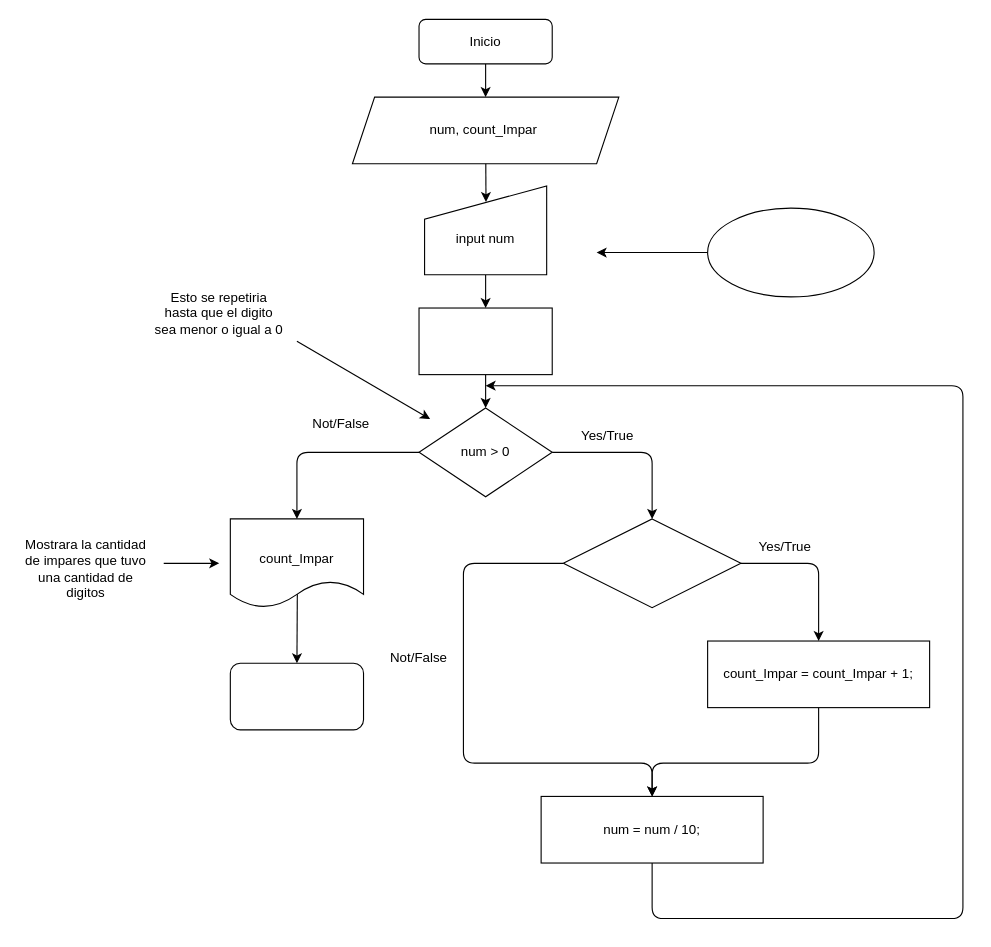
The diagram is 991 pixels wide and 947 high, and some of its shapes have lost their labels. The centre of each missing label's shape, as x and y in pixels:
"((num % 10) % 2) != 0" goes at point 651,563.
"count_Impar = 0" goes at point 485,341.
"Fin" goes at point 296,696.
"Ingreso del numero" goes at point 790,252.
